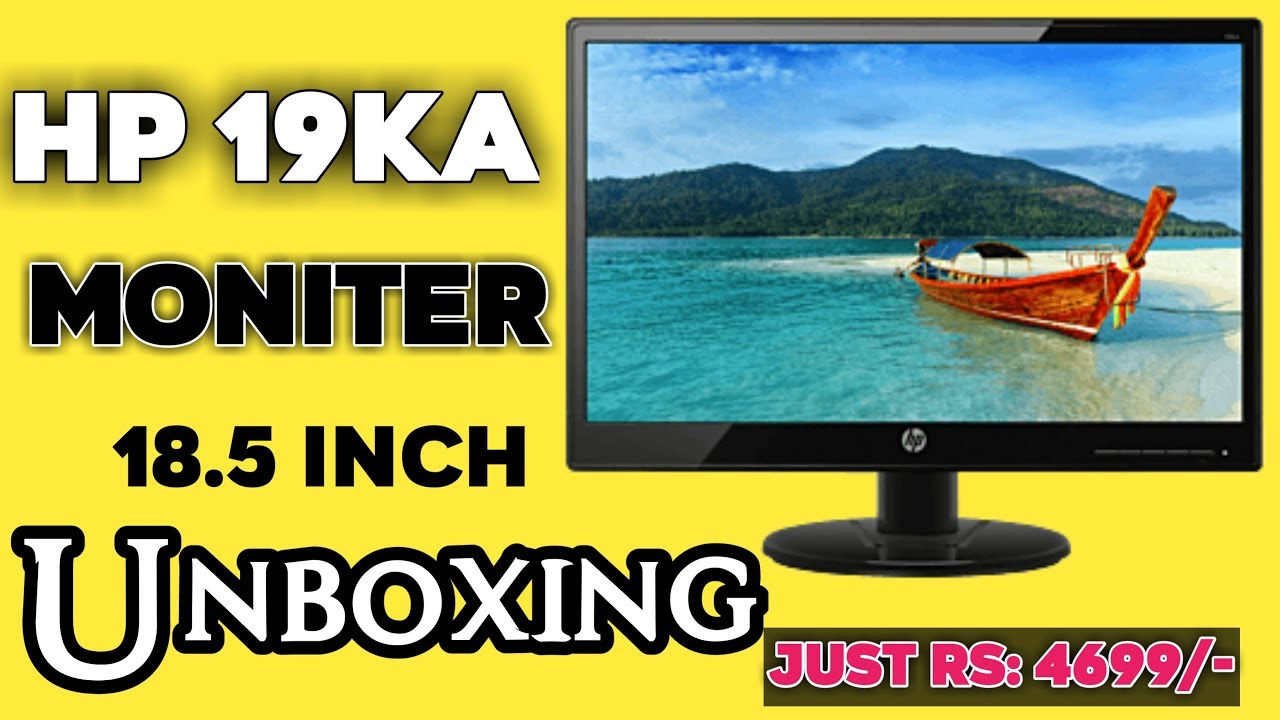hp-monitor-19ka: (559, 17, 1274, 543)
